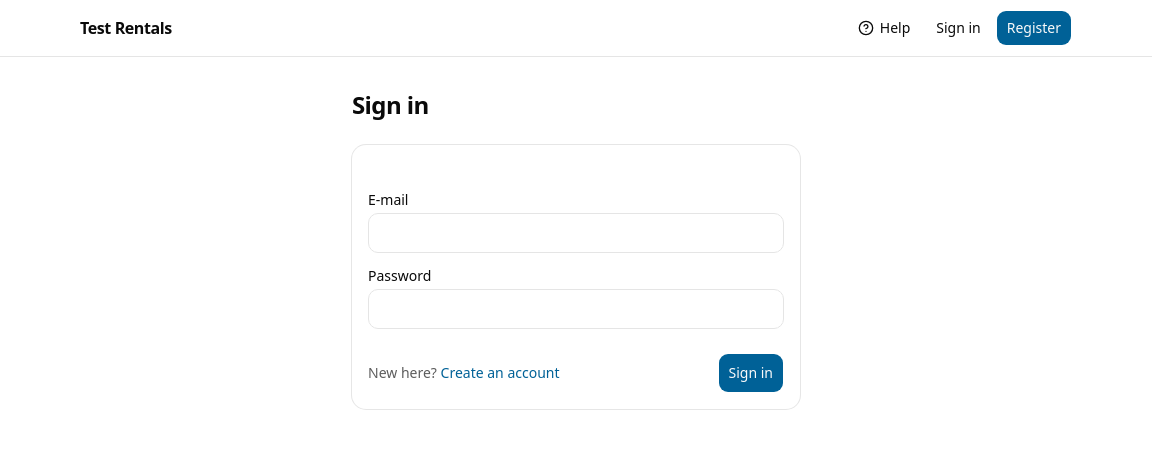
Test case: Sign in › shows the server’s generic message for a wrong password
This screenshot has width=1152, height=465.
In the field labelled "E-mail": [576, 233] box [368,213,784,253], type "customer@vrms.test"
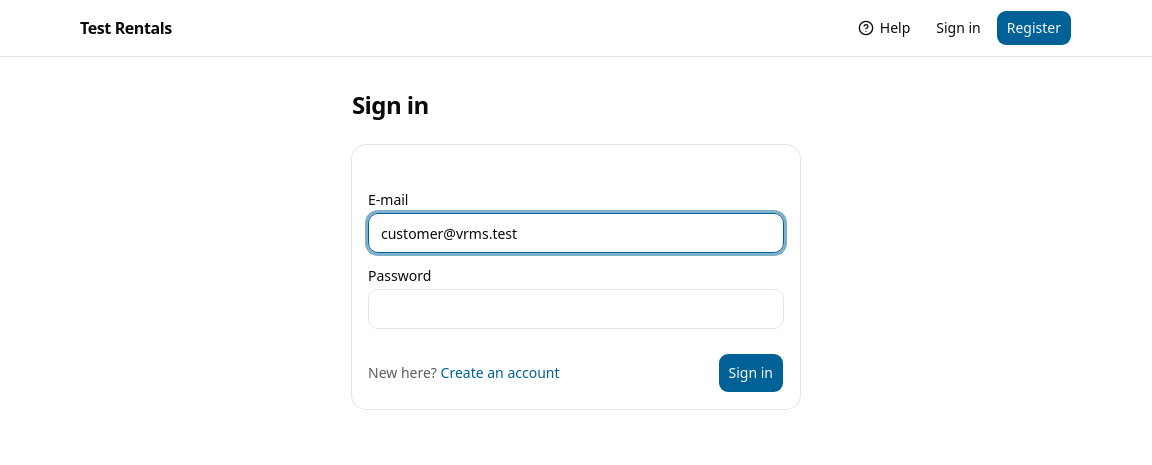
In the password field labelled "Password": [576, 309] box [368,289,784,329], type "wrong"
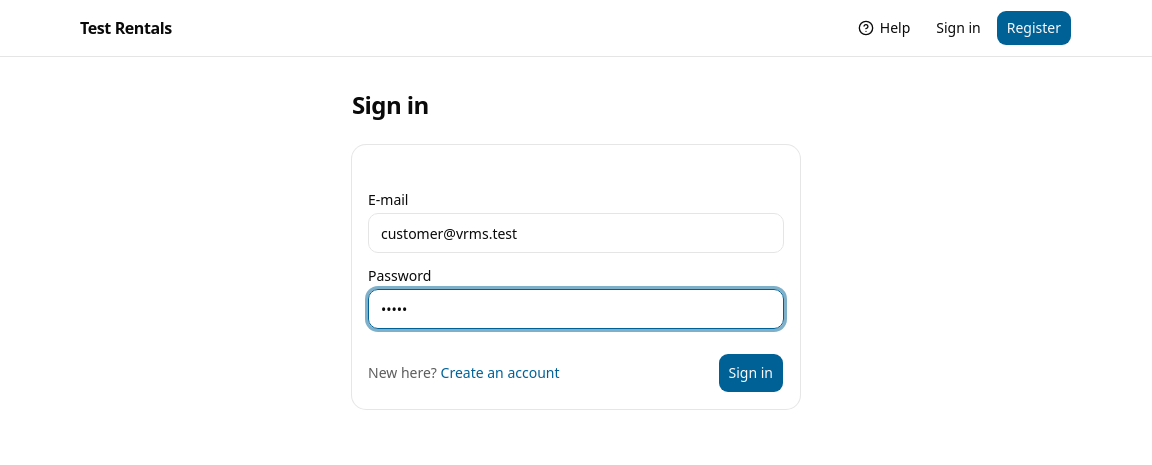
Click the button "Sign in": [751, 373] box [718,353,784,393]
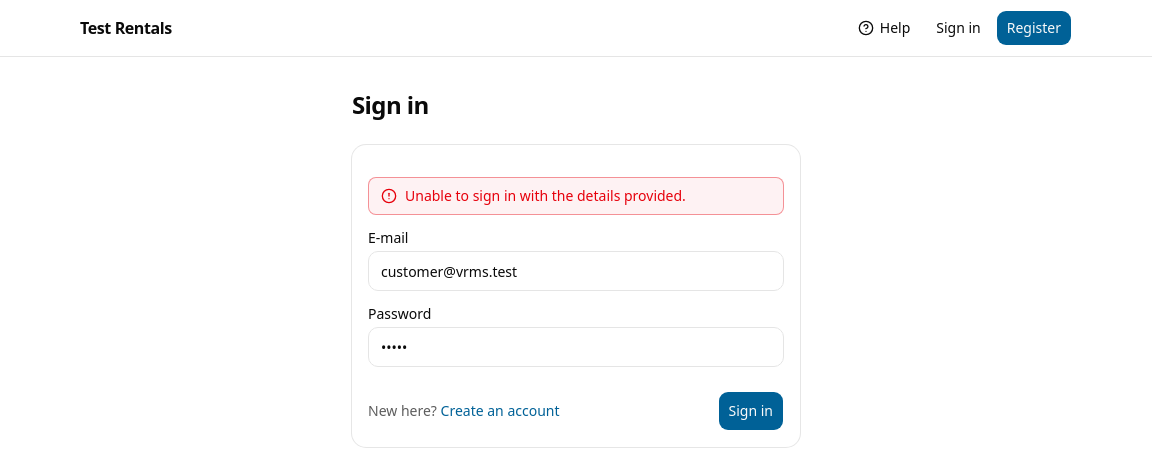
Check: the message reads "Unable to sign in with the details provided.", box [405,186,686,205]
